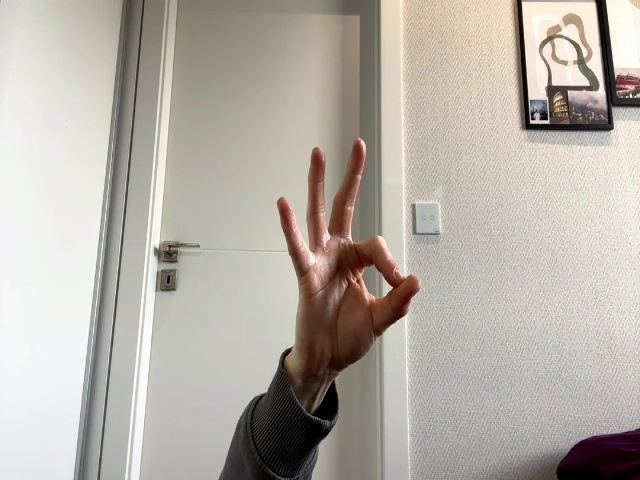O: (278, 138, 421, 372)
